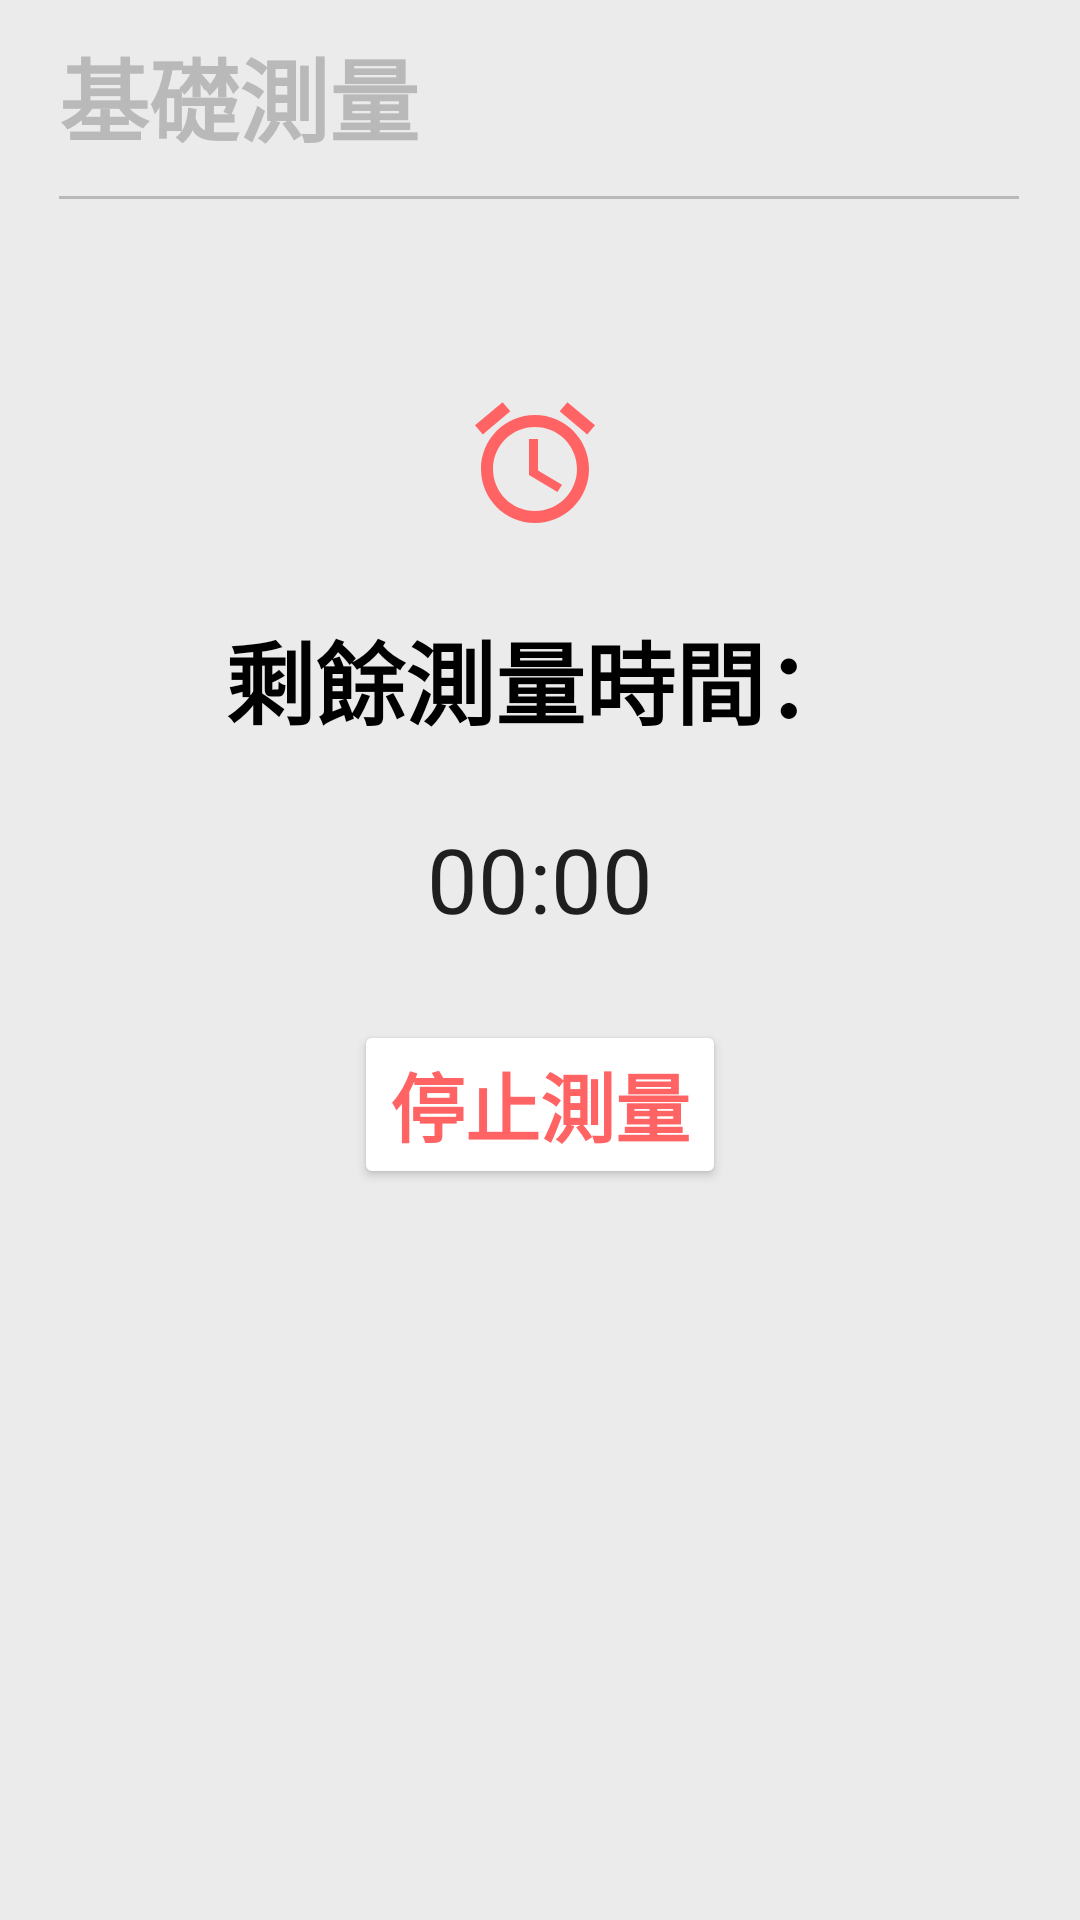

Where icons sit on this 1080 × 1920 app screen, as [x1,y1,x2,y2]:
access alarm: [475,402,595,523]
